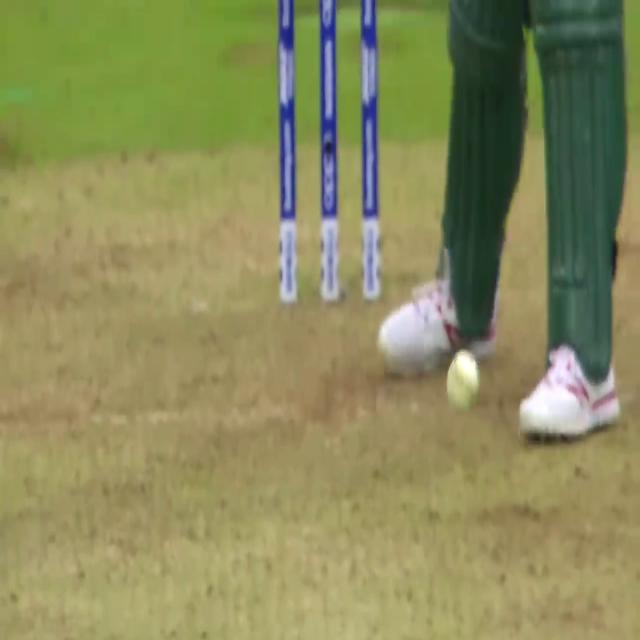ball: (446, 344, 484, 415)
